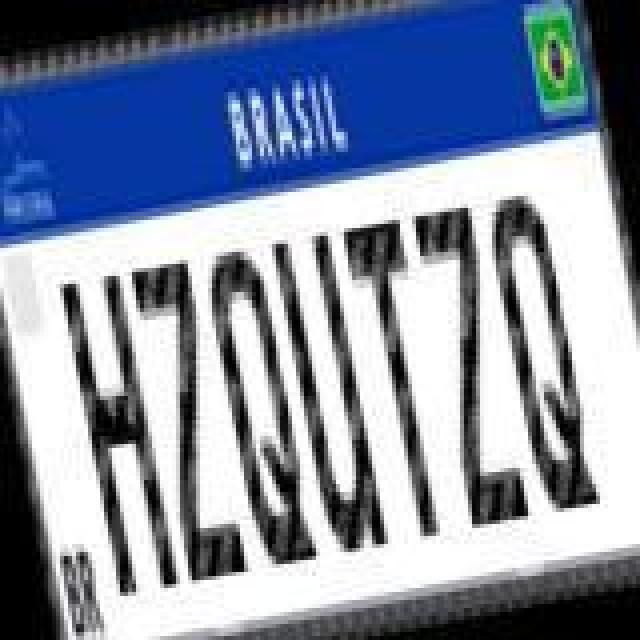H: (58, 270, 182, 602)
Q: (198, 242, 322, 574), (478, 186, 602, 518)
T: (338, 214, 462, 546)
U: (266, 226, 390, 558)
Z: (130, 252, 254, 588), (410, 200, 534, 536)
